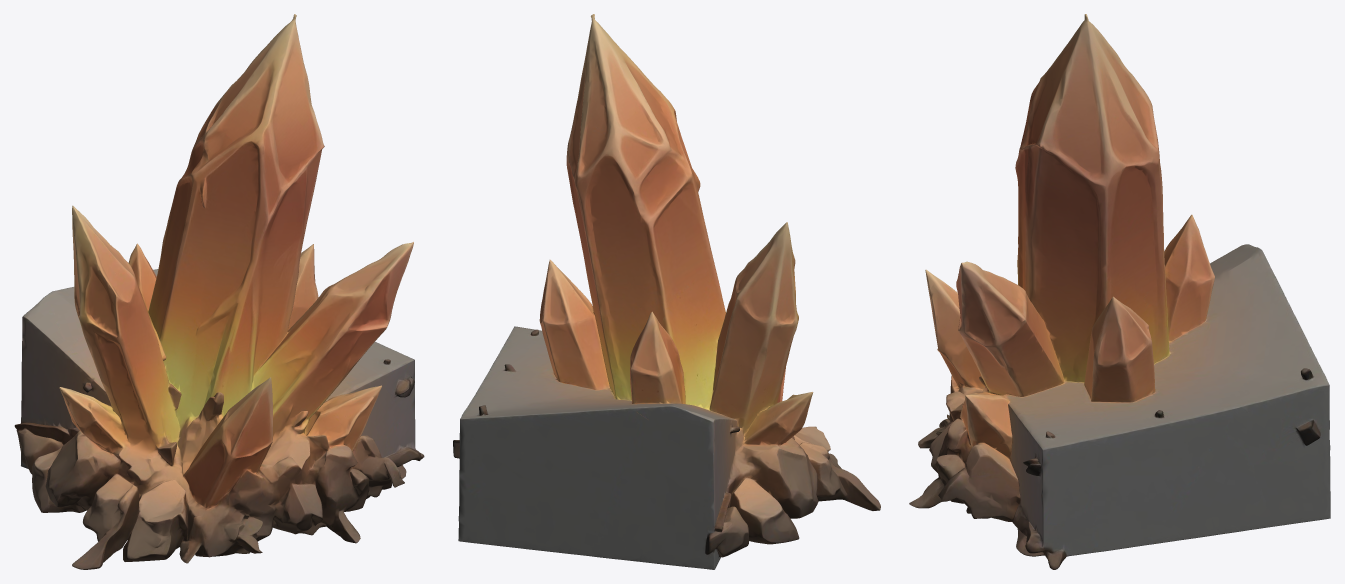
File: crystal_red.glb
3 views of the same model, side by side, from view 1: azimuth 30°, elevation 25°; view 2: azimuth 150°, elevation 25°; view 3: azimuth 270°, elevation 25° (orthographic). The views are drawn at different scales.
Visible parts, largest first — view 1: tripo_node_ede19f7f-224c-4409-b579-6137faf0b657; view 2: tripo_node_ede19f7f-224c-4409-b579-6137faf0b657; view 3: tripo_node_ede19f7f-224c-4409-b579-6137faf0b657.
Boxes of the visible parts, bbox=[...] form: tripo_node_ede19f7f-224c-4409-b579-6137faf0b657: bbox=[14, 14, 424, 569]; tripo_node_ede19f7f-224c-4409-b579-6137faf0b657: bbox=[453, 14, 880, 569]; tripo_node_ede19f7f-224c-4409-b579-6137faf0b657: bbox=[909, 14, 1330, 569].
Bounding box in the file's own units: 0.8296 × 1 × 0.7563.
Materials: 1 (1 with a texture image).
